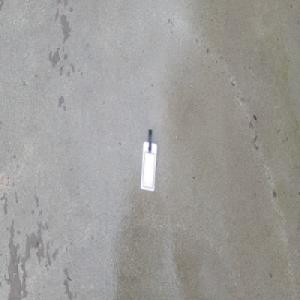LuggageTag: (139, 127, 158, 193)
